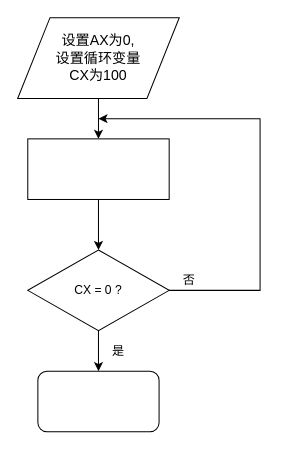
This 286x449 diagram has some shape labels left out. The centre of each missing label's shape, as x and y in pixels:
"AX = AX+CX" goes at pixel 98 168.
"结束，结果存放 在AX中" goes at pixel 98 401.
